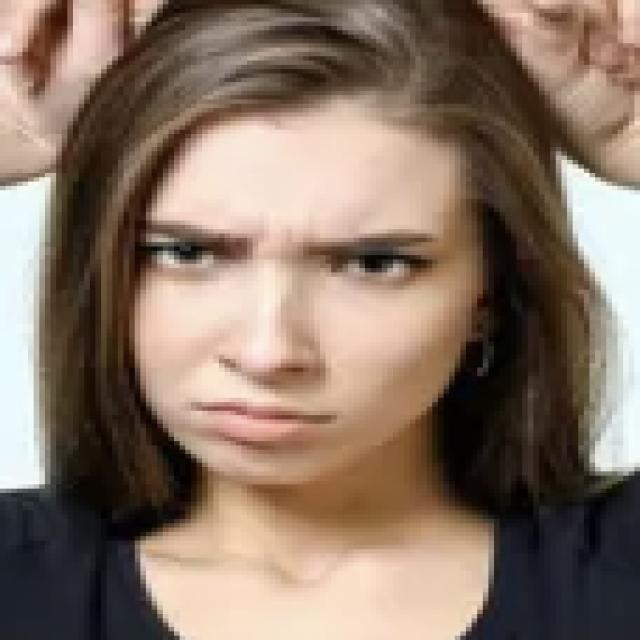angry: (130, 187, 452, 458)
